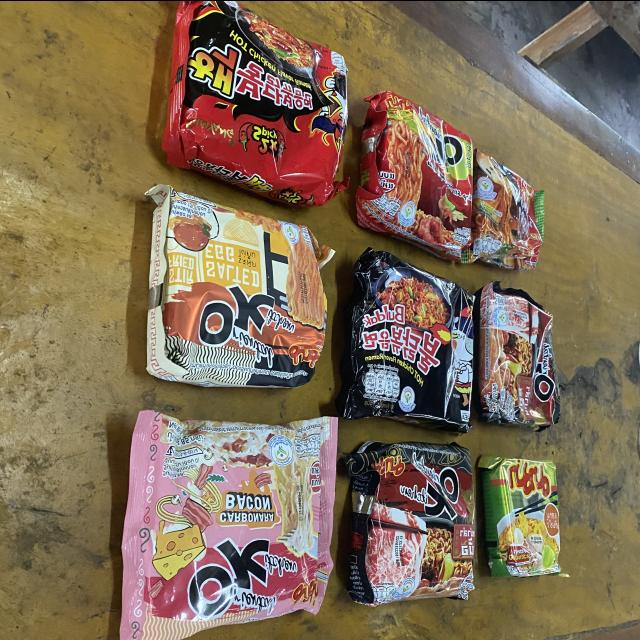plastik: (120, 410, 337, 640), (146, 184, 335, 387), (163, 0, 348, 206), (337, 248, 474, 431), (345, 441, 476, 605), (356, 90, 473, 260), (476, 282, 560, 429), (478, 454, 568, 576), (469, 148, 544, 269)
